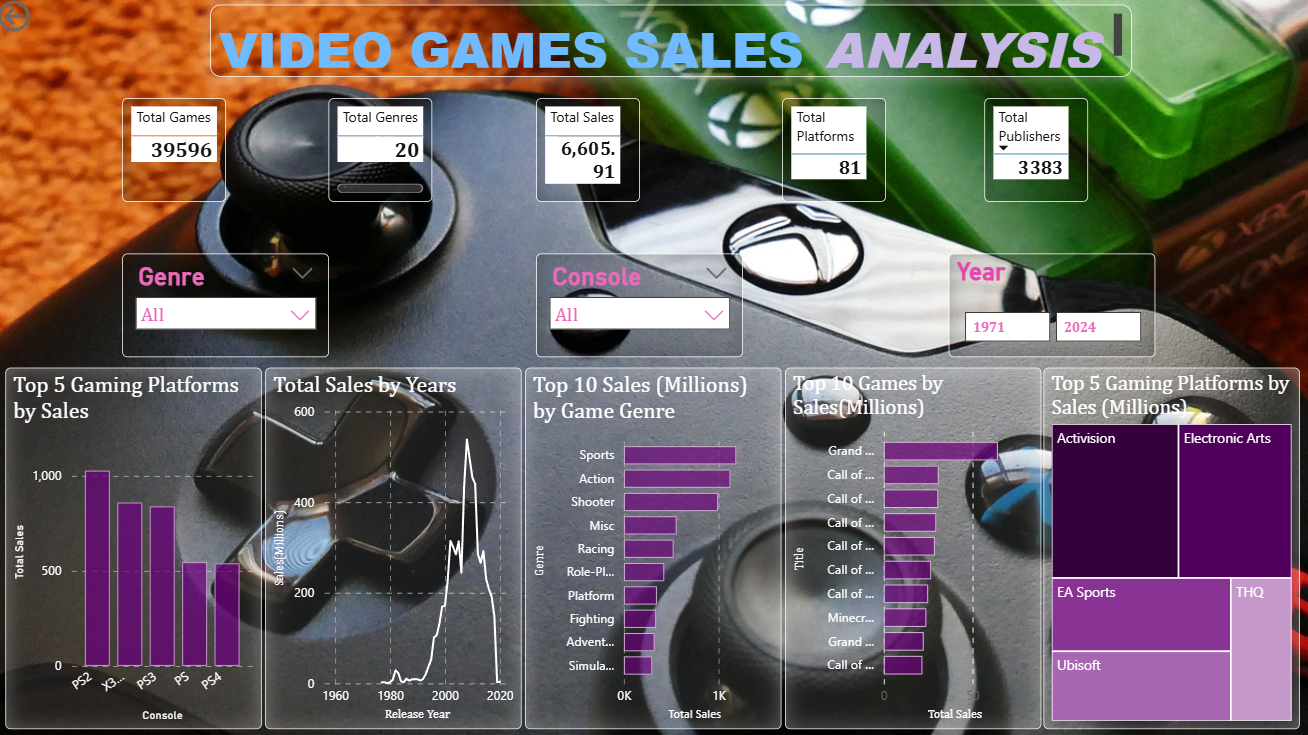

Layout of this report page (visuals, bound fields, positions):
{"tool":"powerbi","page":{"name":"Total Analysis","canvas":[1280,720],"ordinal":0},"visuals":[{"type":"clusteredBarChart","title":"Top 10 Games by Sales(Millions)","fields":{"Category":["vgchartz-2024.title"],"Y":["Sum(vgchartz-2024.total_sales)"]},"box":[766,360,248,350],"z":0},{"type":"lineChart","title":"Total Sales by Years","fields":{"Category":["vgchartz-2024.Release Year"],"Y":["Sum(vgchartz-2024.total_sales)"]},"box":[263.6,360,248,350],"z":1000},{"type":"columnChart","title":"Top 5 Gaming Platforms by Sales","fields":{"Category":["vgchartz-2024.console"],"Y":["Sum(vgchartz-2024.total_sales)"]},"box":[12,360,248,350],"z":2000},{"type":"barChart","title":"Top 10 Sales (Millions) by Game Genre","fields":{"Category":["vgchartz-2024.genre"],"Y":["Sum(vgchartz-2024.total_sales)"]},"box":[515,360,248,350],"z":3000},{"type":"slicer","title":"Year","fields":{"Values":["vgchartz-2024.Release Year"]},"box":[925,250,200,100],"z":4000},{"type":"slicer","fields":{"Values":["vgchartz-2024.genre"]},"box":[125,250,200,100],"z":5000},{"type":"slicer","fields":{"Values":["vgchartz-2024.console"]},"box":[525,250,200,100],"z":6000},{"type":"treemap","title":"Top 5 Gaming Platforms by Sales (Millions)","fields":{"Group":["vgchartz-2024.publisher"],"Values":["Sum(vgchartz-2024.total_sales)"]},"box":[1016,360,248,350],"z":7000},{"type":"tableEx","fields":{"Values":["vgchartz-2024.TotalGames"]},"box":[125,100,100,100],"z":8000},{"type":"actionButton","box":[0,0,100,40],"z":9000},{"type":"tableEx","fields":{"Values":["vgchartz-2024.TotalGenres"]},"box":[325,100,100,100],"z":10000},{"type":"tableEx","fields":{"Values":["Sum(vgchartz-2024.total_sales)"]},"box":[525,100,100,100],"z":11000},{"type":"tableEx","fields":{"Values":["vgchartz-2024.TotalPlatforms"]},"box":[764.1,100,100,100],"z":12000},{"type":"tableEx","fields":{"Values":["vgchartz-2024.TotalPublishers"]},"box":[959,100,100,100],"z":13000},{"type":"textbox","box":[210.3,9.8,891.7,70.1],"z":14000}]}

Visuals, with their boxes in screenshot pixels (x1, y1, x2, y2), scaled from the page's 1280x720 canvas onto the 1308x735 screenshot:
"Top 10 Games by Sales(Millions)" clusteredBarChart: <region>783, 368, 1036, 725</region>
"Total Sales by Years" lineChart: <region>269, 368, 523, 725</region>
"Top 5 Gaming Platforms by Sales" columnChart: <region>12, 368, 266, 725</region>
"Top 10 Sales (Millions) by Game Genre" barChart: <region>526, 368, 780, 725</region>
"Year" slicer: <region>945, 255, 1150, 357</region>
slicer - vgchartz-2024.genre: <region>128, 255, 332, 357</region>
slicer - vgchartz-2024.console: <region>536, 255, 741, 357</region>
"Top 5 Gaming Platforms by Sales (Millions)" treemap: <region>1038, 368, 1292, 725</region>
tableEx - vgchartz-2024.TotalGames: <region>128, 102, 230, 204</region>
actionButton: <region>0, 0, 102, 41</region>
tableEx - vgchartz-2024.TotalGenres: <region>332, 102, 434, 204</region>
tableEx - Sum(vgchartz-2024.total_sales): <region>536, 102, 639, 204</region>
tableEx - vgchartz-2024.TotalPlatforms: <region>781, 102, 883, 204</region>
tableEx - vgchartz-2024.TotalPublishers: <region>980, 102, 1082, 204</region>
textbox: <region>215, 10, 1126, 82</region>
